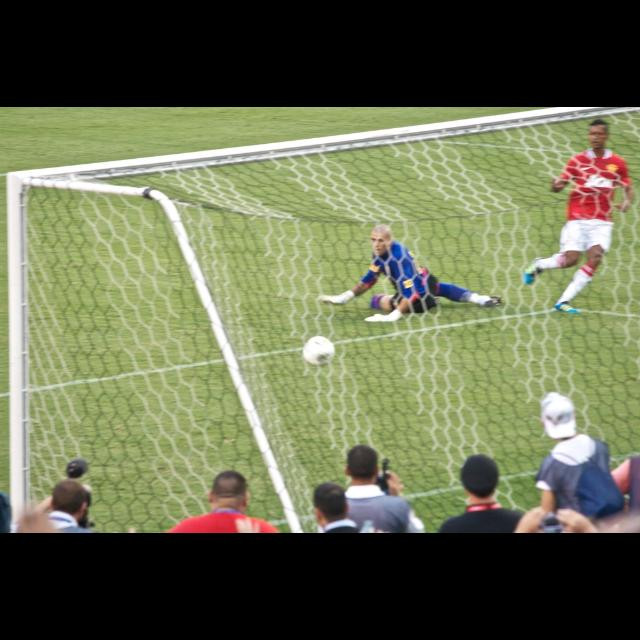Football: (303, 337, 335, 367)
